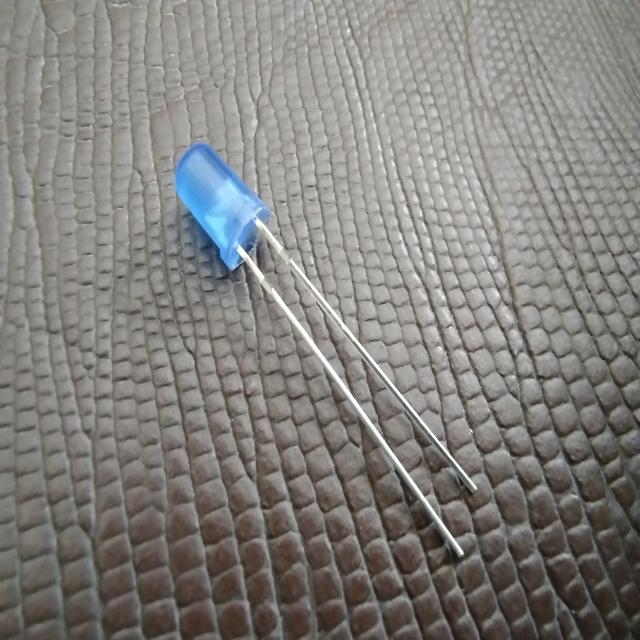blue_led: (173, 141, 271, 272)
